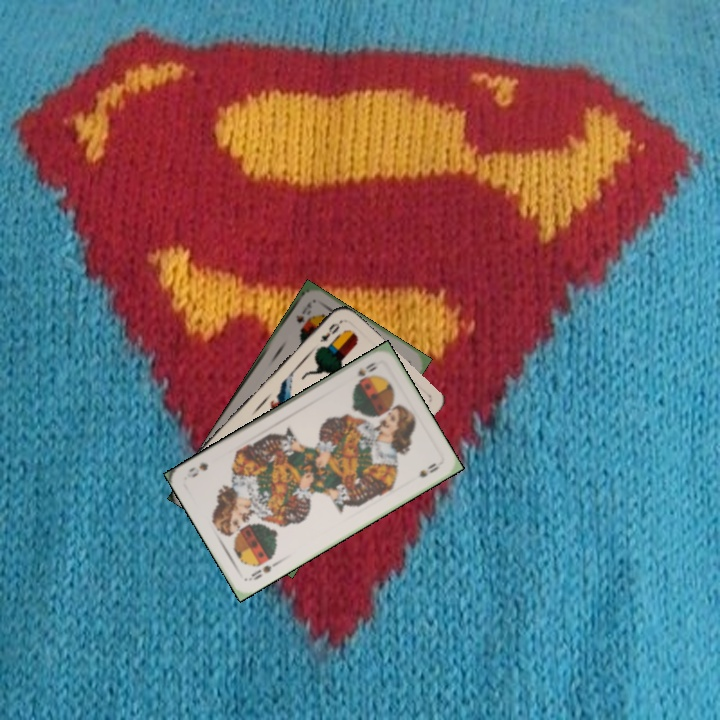EO: (316, 317, 344, 345)
SO: (244, 557, 282, 583), (291, 298, 314, 325), (353, 358, 382, 379)
